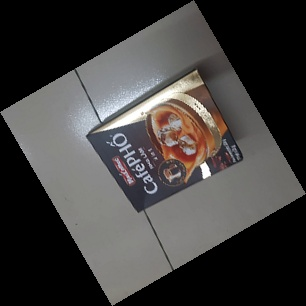CF pho: (86, 66, 243, 215)
